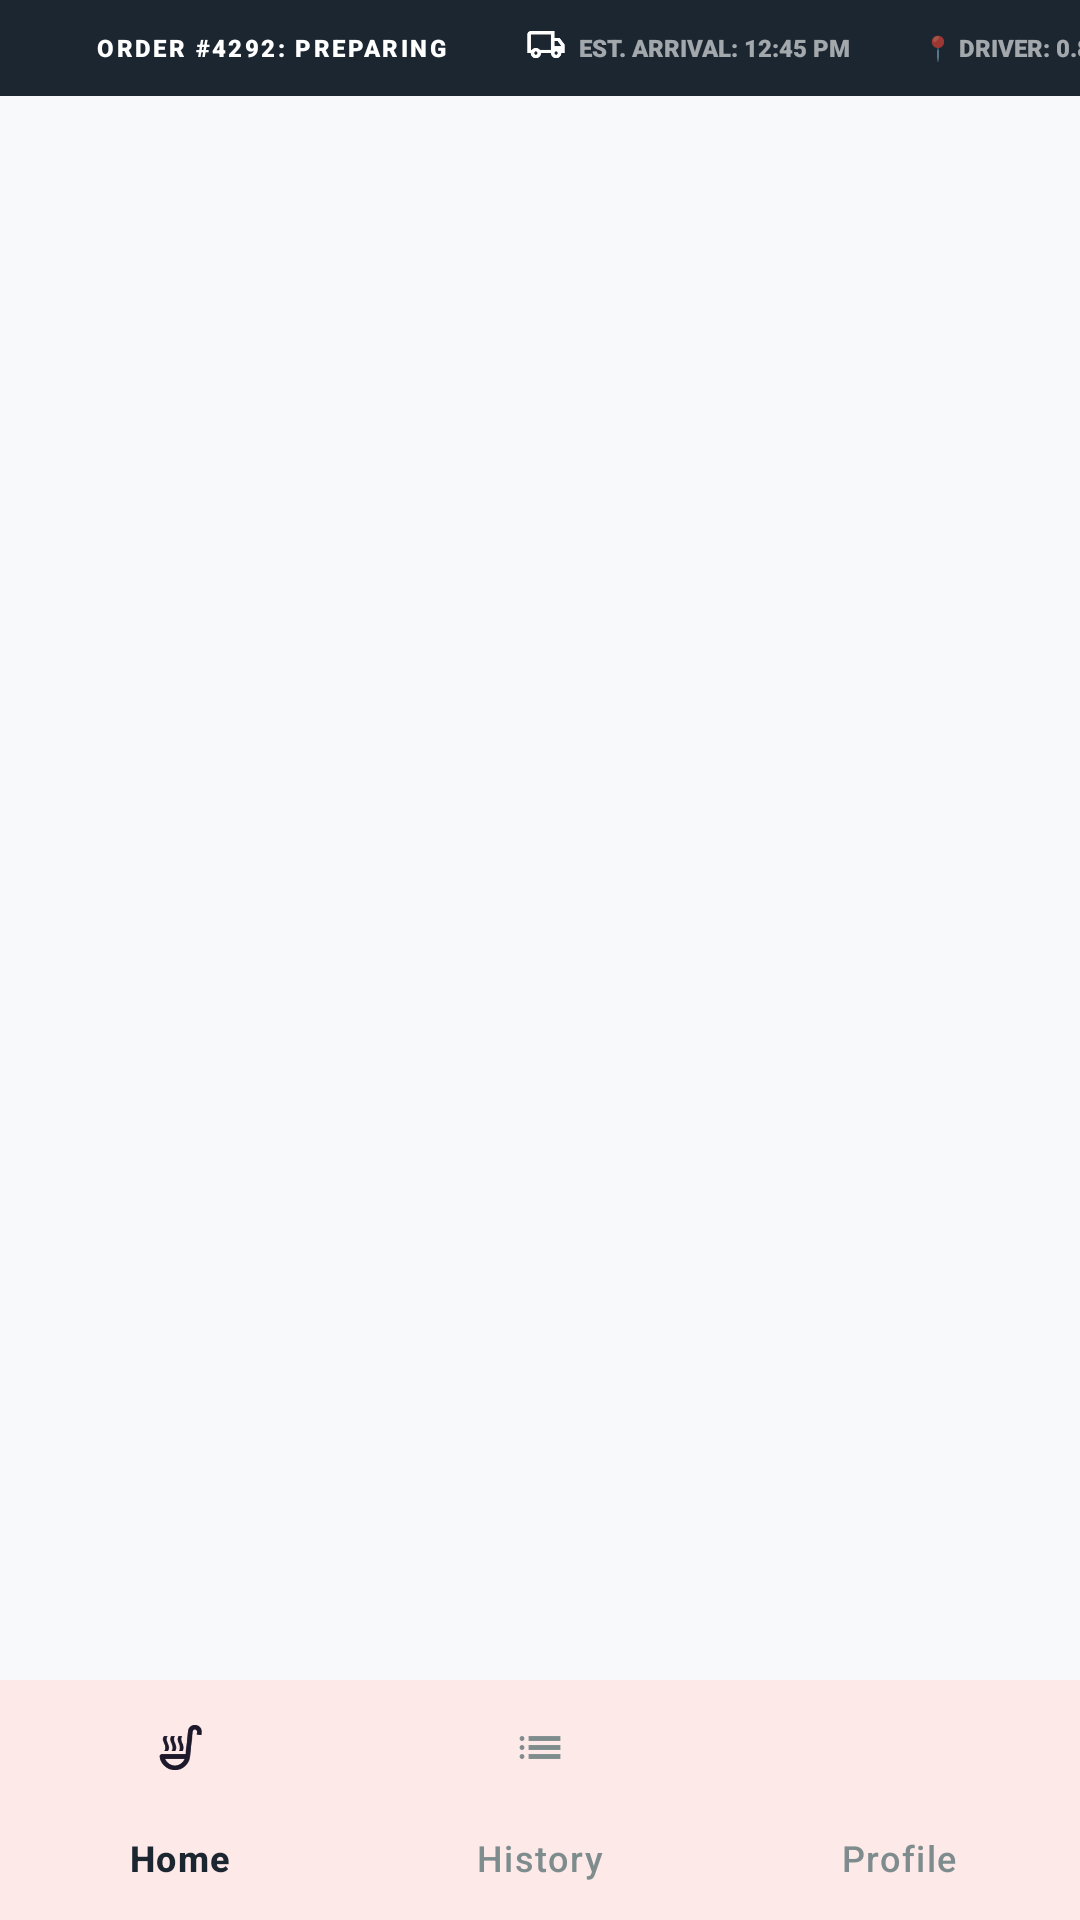

Icons on this 1080w x 1920h Android screen, each with the point to tap as point (x, y):
Delivery icon: point (546, 44)
